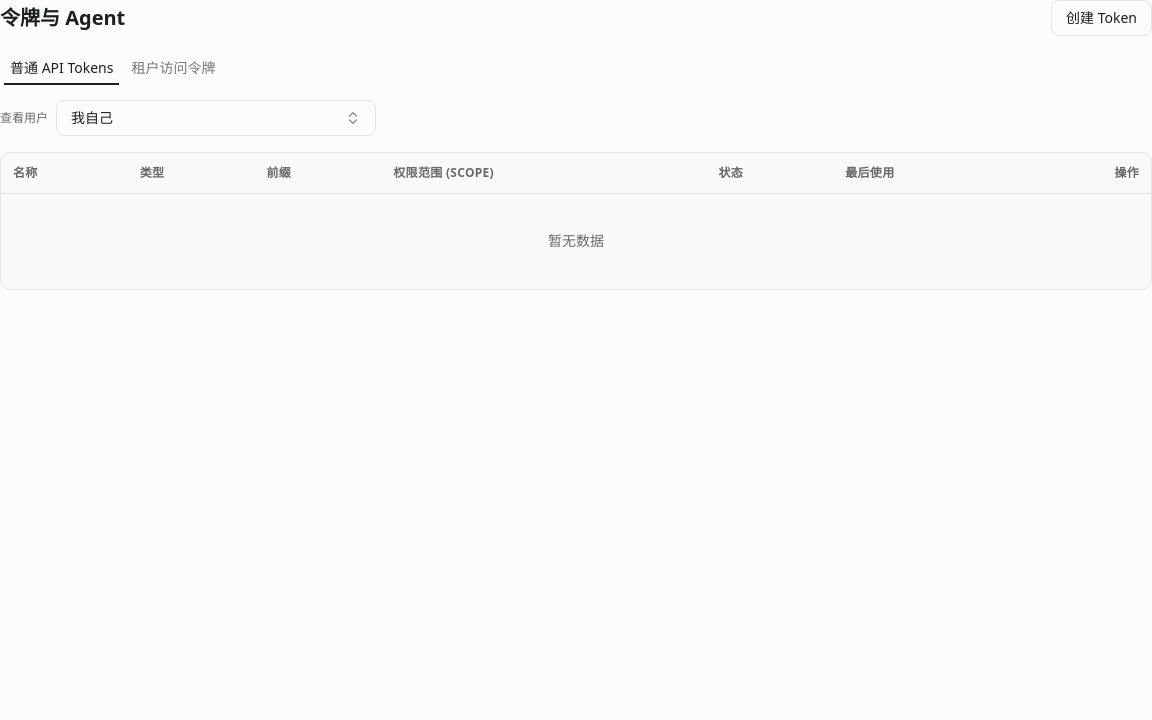
Scenario: TokensPage › opens MCP config dialog for tenant token rows
Click the tab "租户访问令牌": (174, 68) [124, 56, 222, 80]
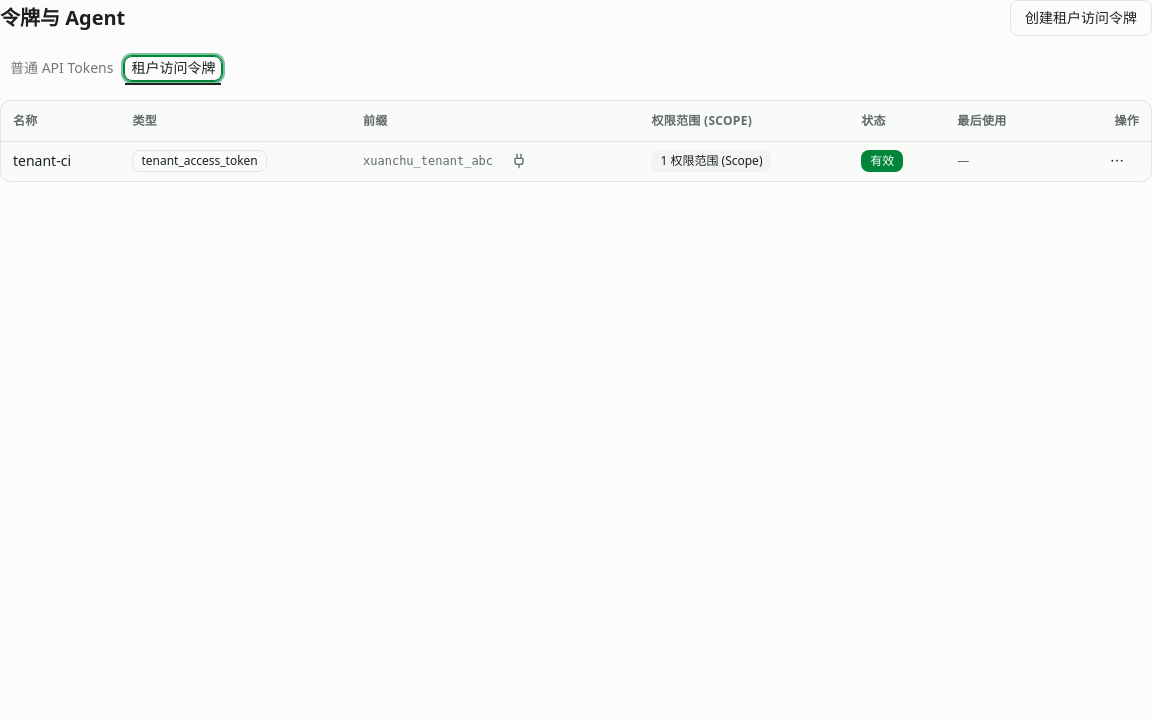
Click the button named "MCP 配置：tenant-ci": (519, 161) [501, 143, 537, 179]
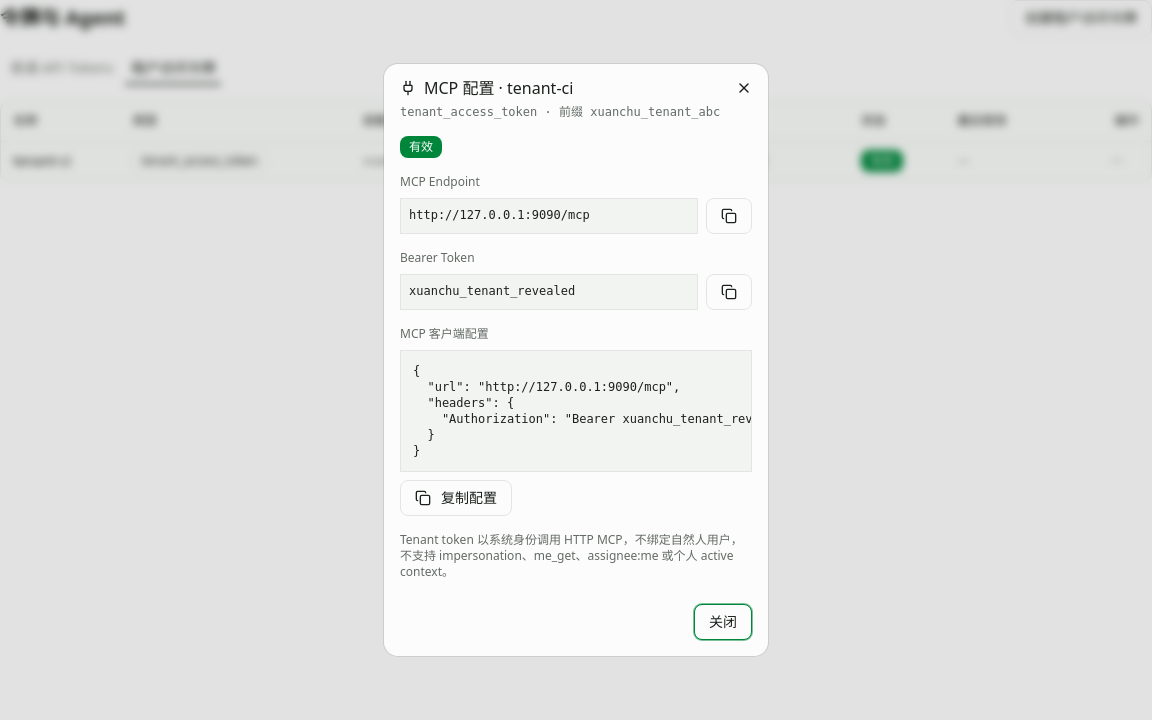
Now the text "xuanchu_tenant_revealed" is shown, box [400, 274, 698, 310]
